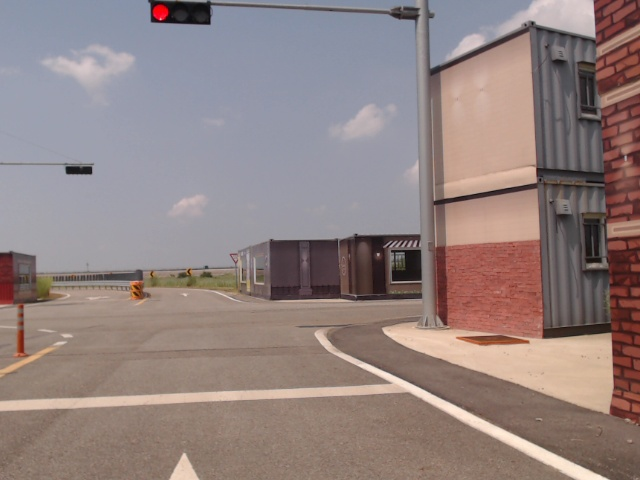red_3: (151, 0, 212, 25)
